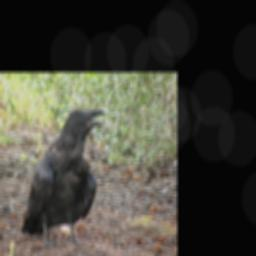Crow: (19, 107, 106, 250)
